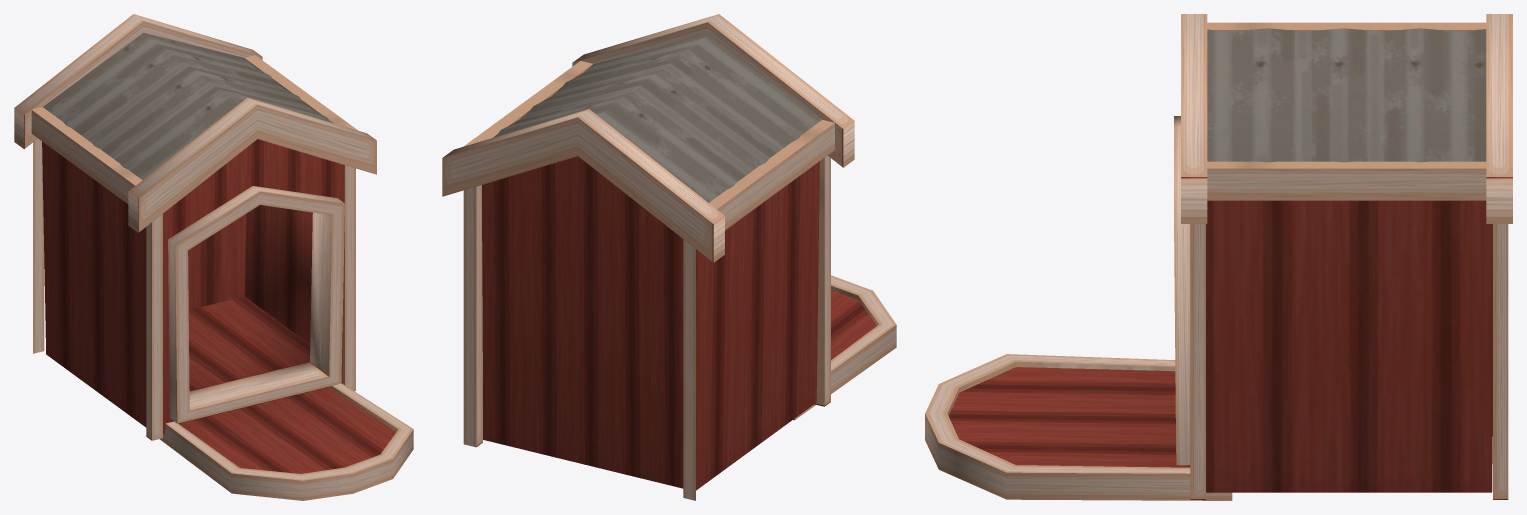
The model's file is Kennel_HandObject.fbx.
The picture shows the model from 3 angles, left to right: view 1: azimuth 30°, elevation 25°; view 2: azimuth 150°, elevation 25°; view 3: azimuth 270°, elevation 25°; orthographic projection. The views are drawn at different scales.
Visible parts, largest first — view 1: Coop; view 2: Coop; view 3: Coop.
Part boxes in pixels (box(x1,y1,x2,y2)): Coop: box(14, 14, 413, 500); Coop: box(442, 14, 896, 500); Coop: box(925, 14, 1512, 500).
Size of the model in its own units: 0.8721 by 1.13 by 1.39.
